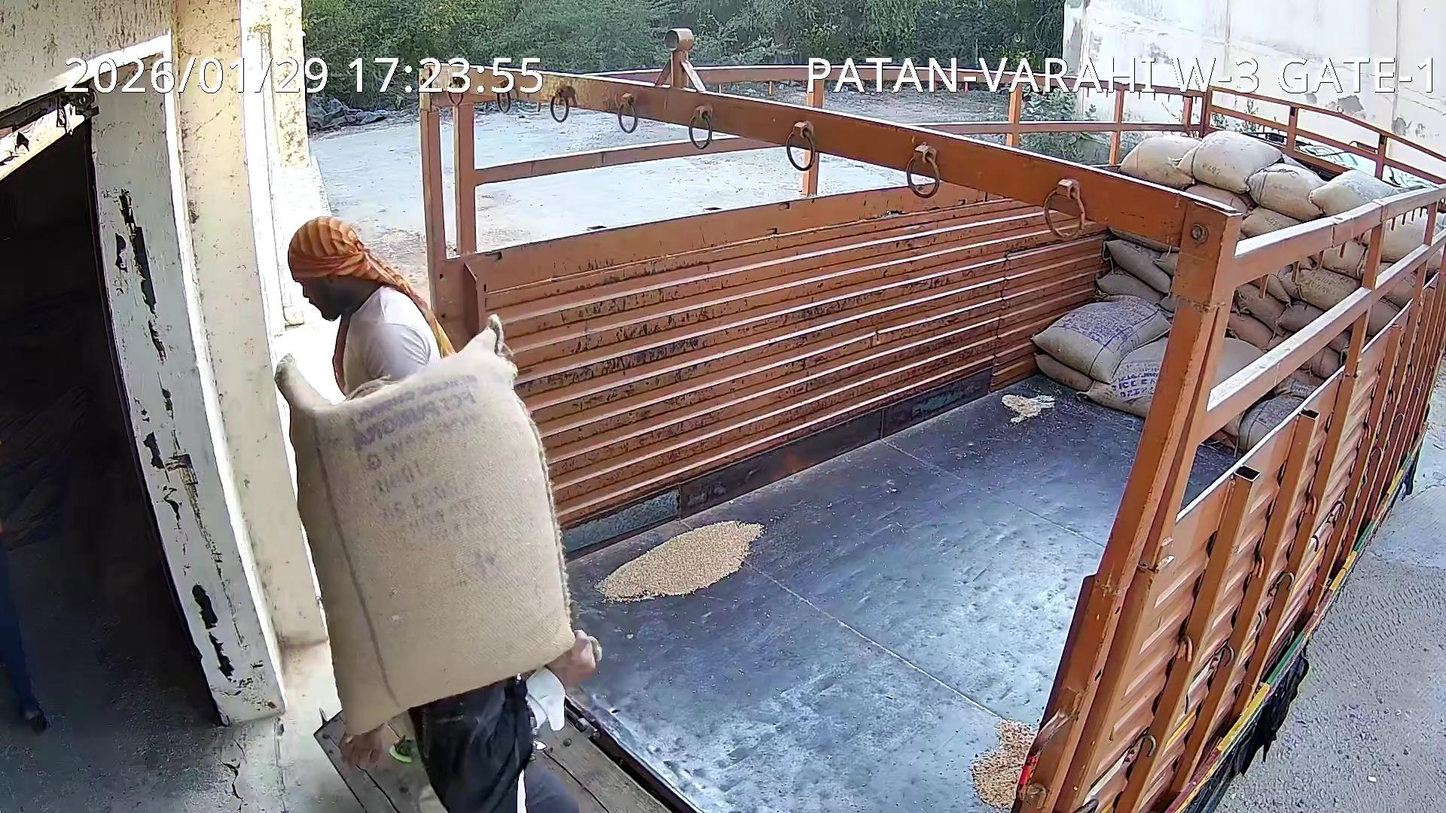Sack: (277, 330, 572, 727)
